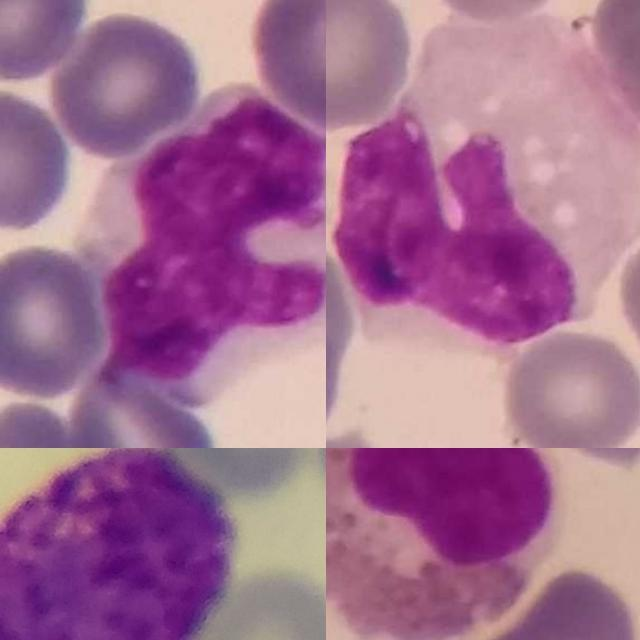Basophil: (0, 448, 237, 640)
Eosinophil: (326, 448, 558, 640)
Monocyte: (337, 14, 640, 348), (81, 85, 326, 391)
